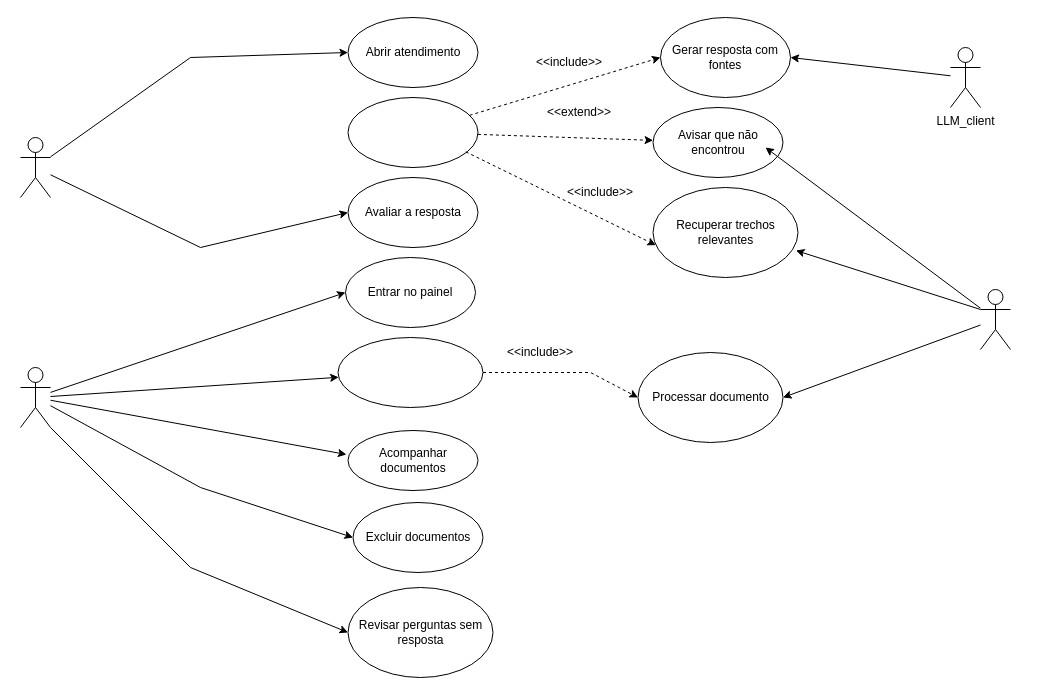
This 1037x695 diagram has some shape labels left out. Each missing label, with the centre of its shape:
"Cadastrar documento" belongs at [410,372].
"Cliente" belongs at [35,167].
"Gestor" belongs at [35,397].
"Perguntar ao Unespão" belongs at [412,132].
"Retriever" belongs at [995,319].
